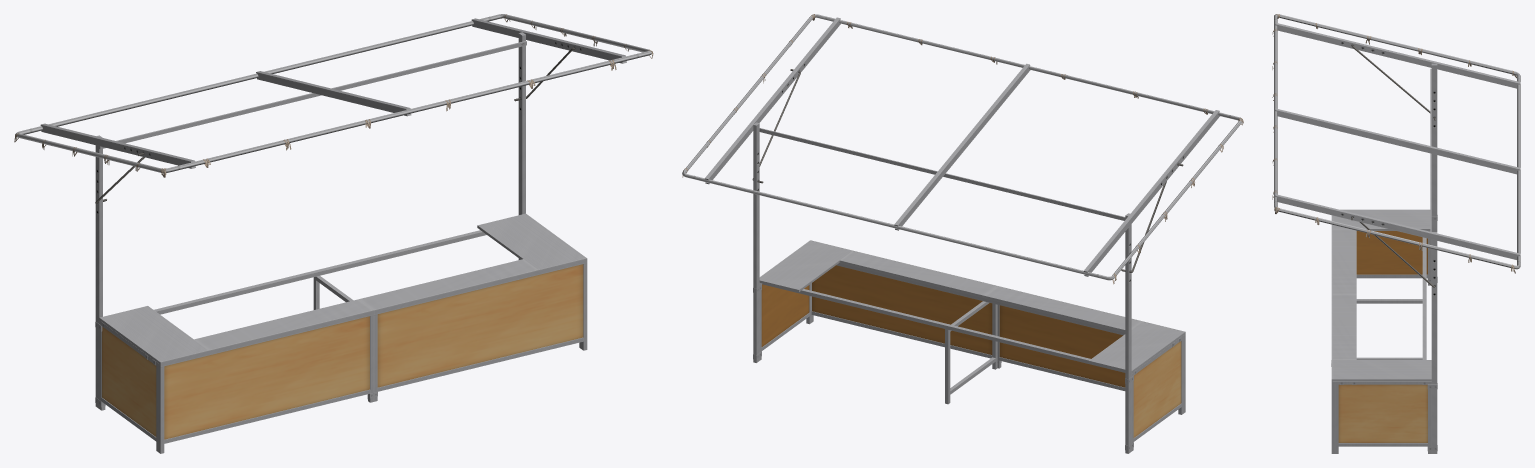
File: jsf_2P_s04_c05_t03.fbx
3 views of the same model, side by side, from view 1: azimuth 30°, elevation 25°; view 2: azimuth 150°, elevation 25°; view 3: azimuth 270°, elevation 25° (orthographic). The views are drawn at different scales.
Parts seen in each view (by area): view 1: Base_s04_c05, Pillar2_s04, Table_2P_s04_t03, Rope_2P_s04; view 2: Base_s04_c05, Pillar2_s04, Table_2P_s04_t03, Support; view 3: Pillar2_s04, Base_s04_c05, Table_2P_s04_t03, Support, Rope_2P_s04.
Boxes of the visible parts, bbox=[...] form: Base_s04_c05: bbox=[95, 258, 587, 453]; Pillar2_s04: bbox=[15, 14, 651, 408]; Table_2P_s04_t03: bbox=[99, 213, 586, 365]; Rope_2P_s04: bbox=[14, 14, 653, 177]; Base_s04_c05: bbox=[753, 240, 1185, 451]; Pillar2_s04: bbox=[682, 14, 1242, 453]; Table_2P_s04_t03: bbox=[759, 240, 1184, 374]; Support: bbox=[945, 301, 997, 404]; Pillar2_s04: bbox=[1274, 14, 1520, 453]; Base_s04_c05: bbox=[1331, 215, 1437, 453]; Table_2P_s04_t03: bbox=[1332, 209, 1431, 384]; Support: bbox=[1356, 299, 1422, 359]; Rope_2P_s04: bbox=[1272, 14, 1516, 273].
Bounding box in the file's own units: 395 × 244 × 211.
